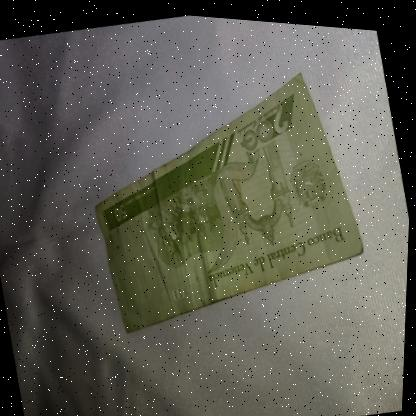fifty-back-vef: (68, 44, 381, 349)
